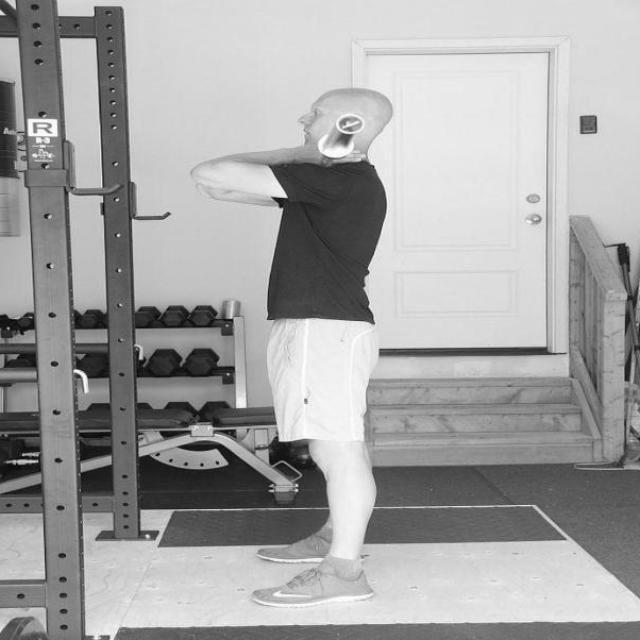person: (221, 76, 417, 618)
